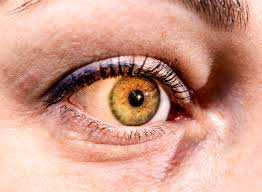pupil: (111, 75, 161, 125)
